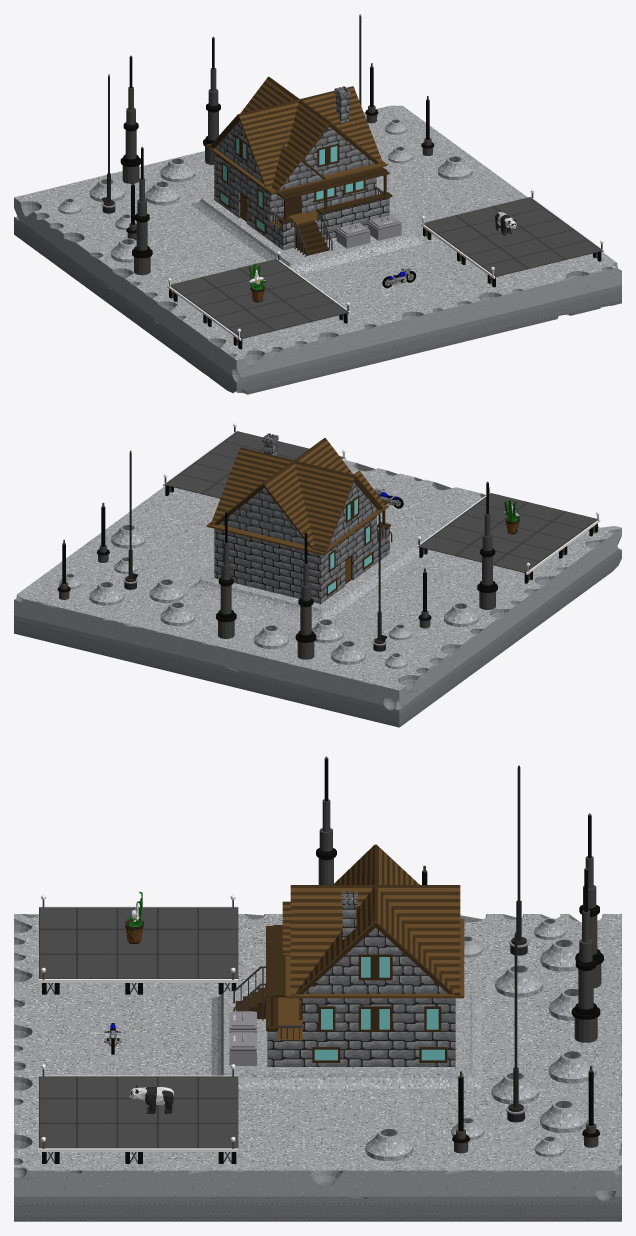
The picture shows the model from 3 angles, top to bottom: view 1: azimuth 30°, elevation 25°; view 2: azimuth 150°, elevation 25°; view 3: azimuth 270°, elevation 25°; orthographic projection. The views are drawn at different scales.
Parts seen in each view (by area): view 1: Cube.027, Cube.586, Cube.026, Cube.025, Cube.028, Cylinder.020, Cylinder.021, Cylinder.017, Cube.029, Cube.030, Cylinder.027, Cylinder.033 (+2 smaller); view 2: Cube.027, Cube.586, Cube.025, Cube.028, Cube.026, Cylinder.020, Cylinder.021, Cylinder.017, Cylinder.031, Cylinder.028, Cylinder.029, Cylinder.030 (+6 smaller); view 3: Cube.027, Cube.586, Cube.025, Cube.026, Cube.028, Cylinder.017, Cylinder.020, Cylinder.021, Cylinder.033, Cylinder.031, Cylinder.029, Cylinder.026 (+9 smaller).
Boxes of the visible parts, x1=… form: Cube.027: x1=14, y1=105, x2=621, y2=394; Cube.586: x1=205, y1=76, x2=392, y2=256; Cube.026: x1=421, y1=189, x2=604, y2=287; Cube.025: x1=167, y1=251, x2=350, y2=349; Cube.028: x1=191, y1=195, x2=424, y2=274; Cylinder.020: x1=120, y1=55, x2=140, y2=183; Cylinder.021: x1=132, y1=146, x2=152, y2=275; Cylinder.017: x1=203, y1=36, x2=220, y2=164; Cube.029: x1=336, y1=222, x2=370, y2=248; Cube.030: x1=368, y1=215, x2=401, y2=240; Cylinder.027: x1=160, y1=158, x2=195, y2=182; Cylinder.033: x1=438, y1=156, x2=472, y2=180; Cube.027: x1=14, y1=460, x2=621, y2=727; Cube.586: x1=206, y1=433, x2=392, y2=603; Cube.025: x1=417, y1=485, x2=600, y2=583; Cube.028: x1=190, y1=538, x2=419, y2=620; Cube.026: x1=163, y1=423, x2=346, y2=498; Cylinder.020: x1=295, y1=531, x2=316, y2=659; Cylinder.021: x1=477, y1=481, x2=497, y2=609; Cylinder.017: x1=216, y1=510, x2=236, y2=638; Cylinder.031: x1=89, y1=581, x2=124, y2=605; Cylinder.028: x1=331, y1=640, x2=365, y2=664; Cylinder.029: x1=160, y1=601, x2=195, y2=626; Cylinder.030: x1=149, y1=578, x2=184, y2=603; Cube.027: x1=14, y1=914, x2=621, y2=1221; Cube.586: x1=233, y1=844, x2=464, y2=1066; Cube.025: x1=39, y1=895, x2=238, y2=994; Cube.026: x1=39, y1=1064, x2=238, y2=1163; Cube.028: x1=211, y1=991, x2=481, y2=1088; Cylinder.017: x1=571, y1=867, x2=600, y2=1042; Cylinder.020: x1=575, y1=813, x2=603, y2=988; Cylinder.021: x1=316, y1=756, x2=336, y2=884; Cylinder.033: x1=365, y1=1128, x2=413, y2=1160; Cylinder.031: x1=540, y1=1100, x2=587, y2=1132; Cylinder.029: x1=548, y1=1050, x2=596, y2=1083; Cylinder.026: x1=495, y1=964, x2=543, y2=997.
Bounding box in the file's own units: 4000 × 1951 × 4000.
29 materials, 5 textured.
